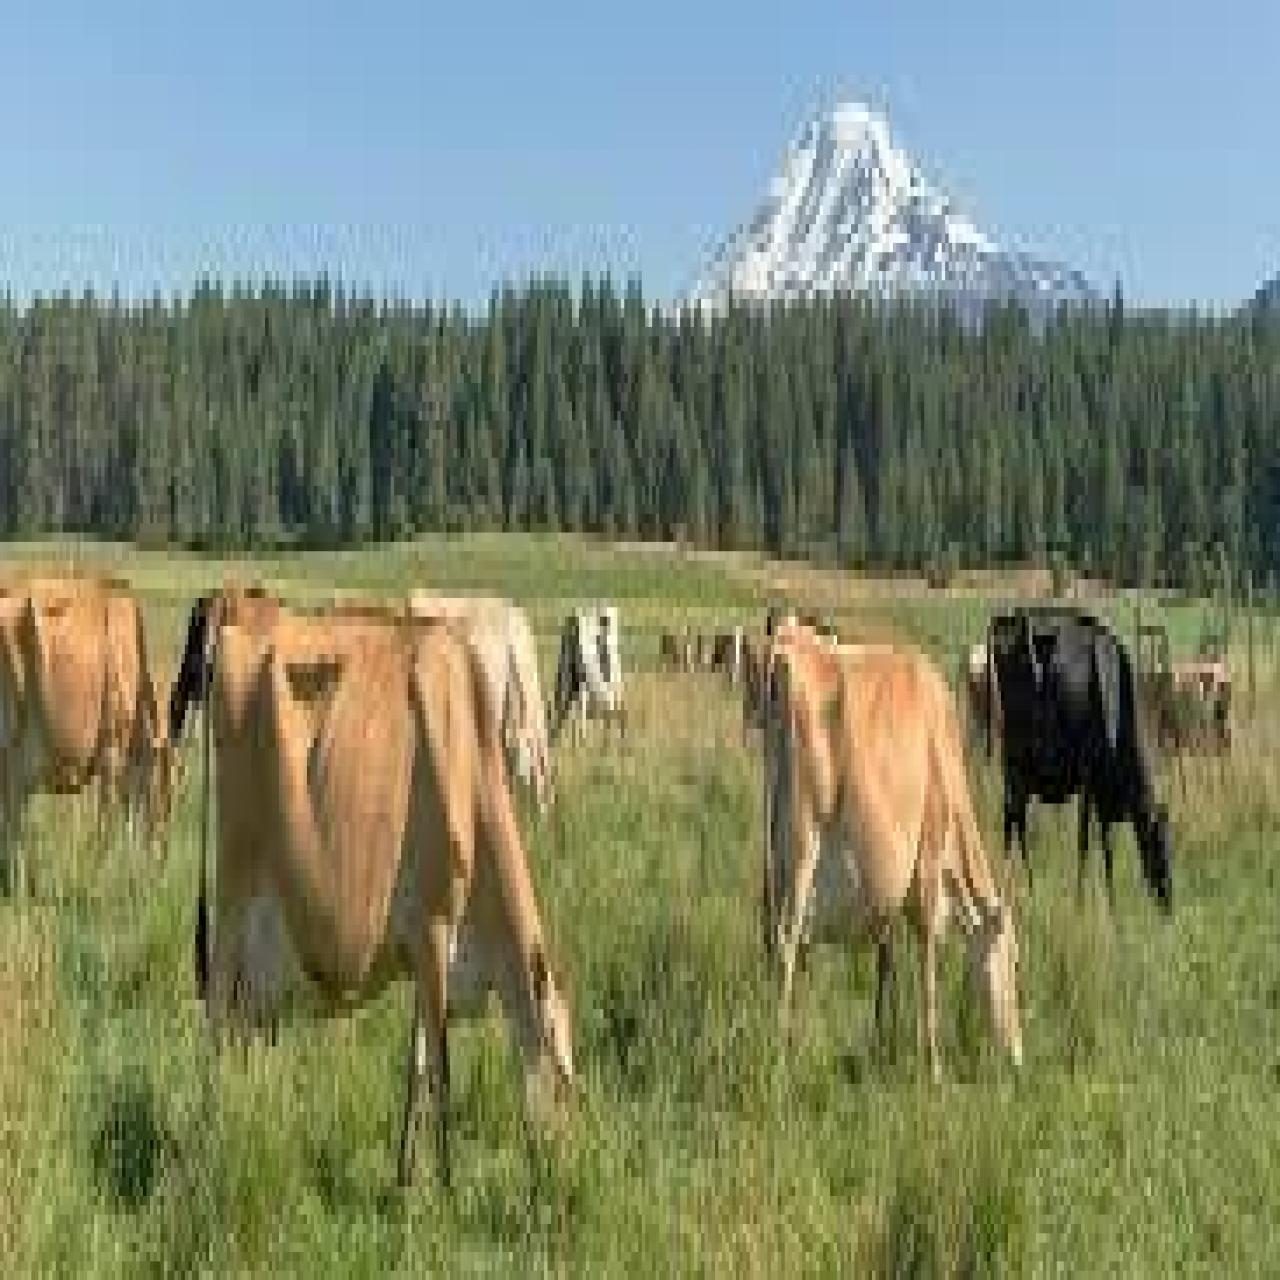cow: (196, 612, 576, 1200), (757, 607, 1026, 1103), (982, 593, 1177, 930), (0, 570, 173, 887), (162, 584, 270, 771), (540, 593, 627, 753), (1151, 654, 1234, 785)
